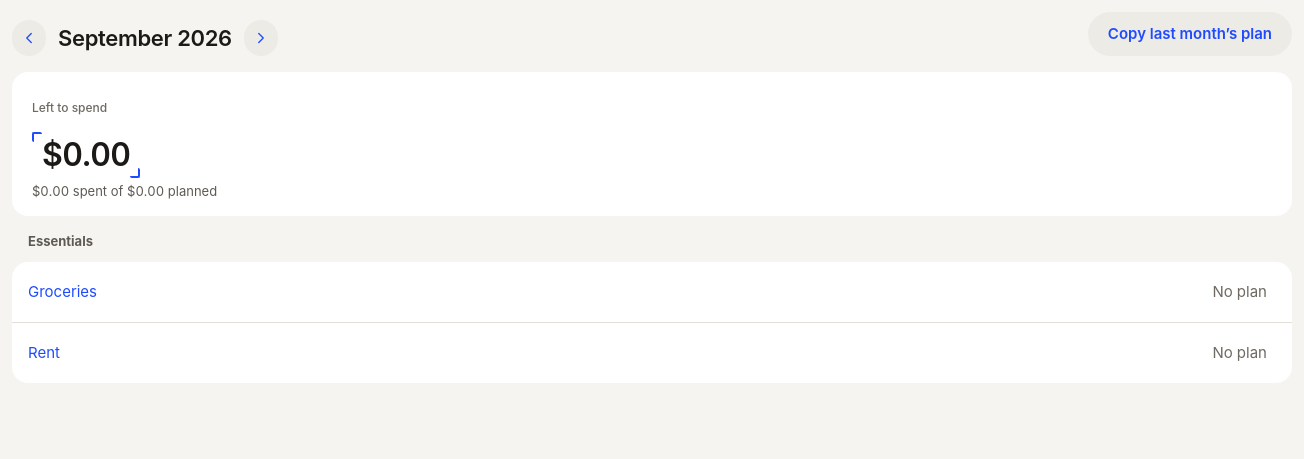
Test case: BudgetList › offers last month’s plan only while this month has none
Click the button "Copy last month’s plan" at (1190, 34), box [1088,12,1292,56]
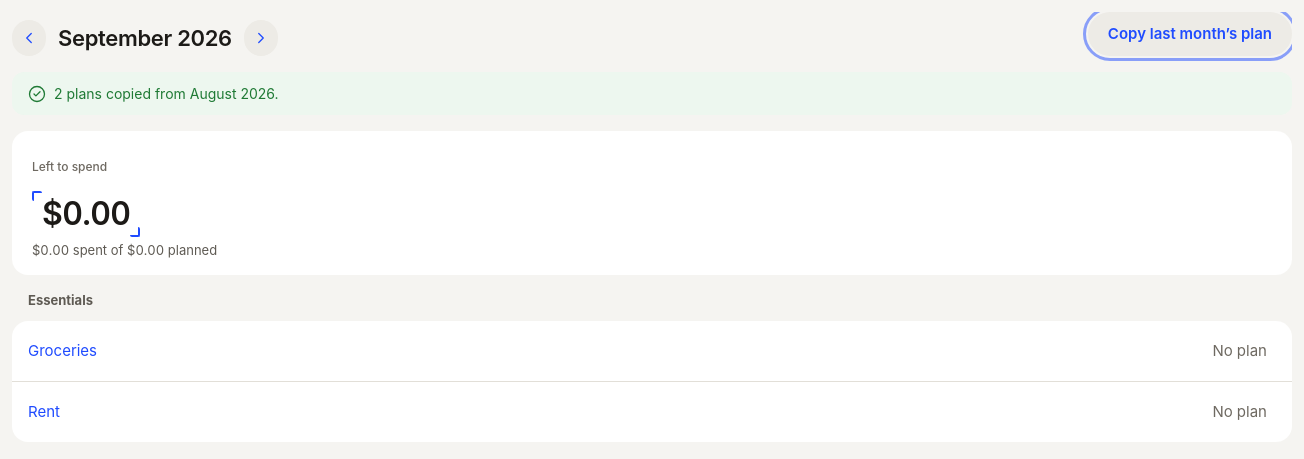
expect the text "2 plans copied from August 2026." is shown: met, box [54,84,279,103]
